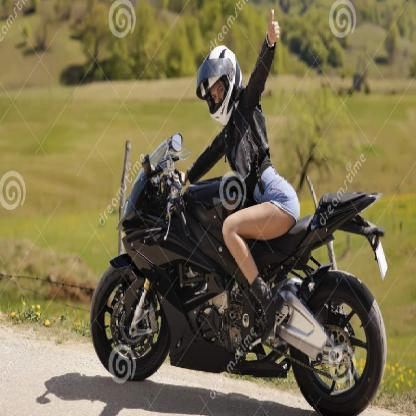helmet: (195, 44, 243, 126)
